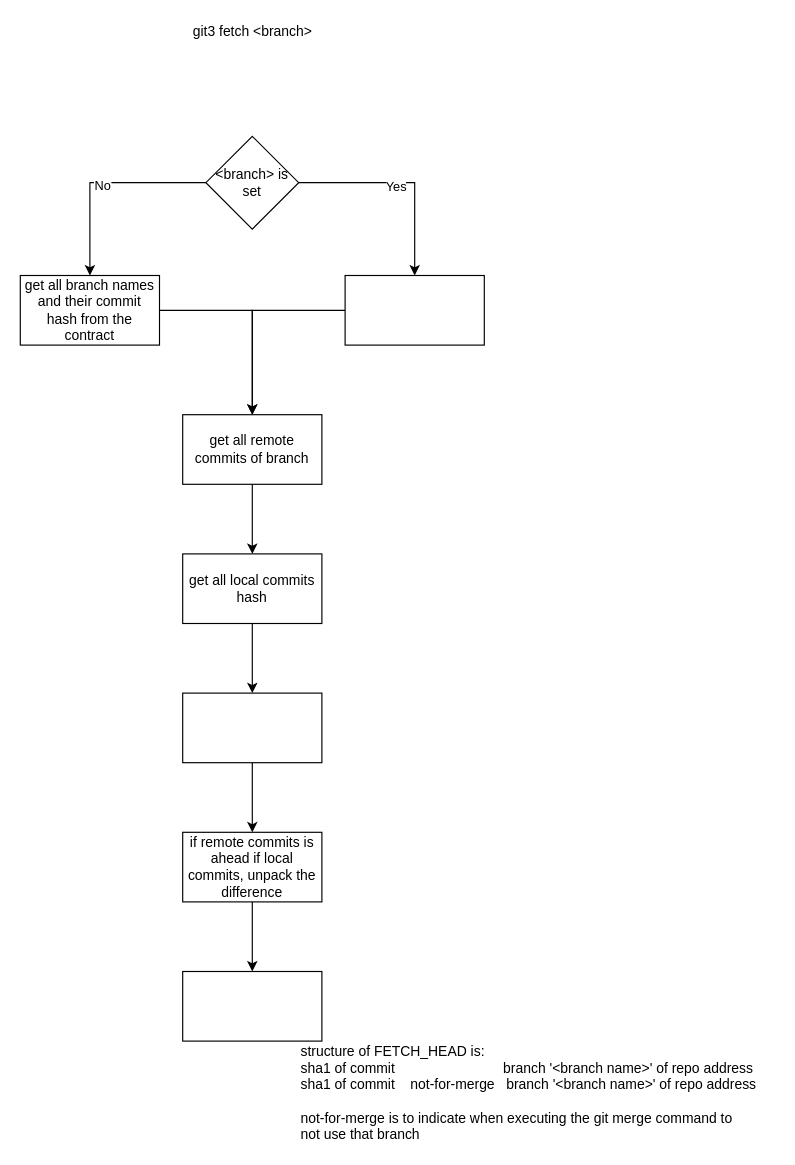
Image size: 795x1165. Some labels were removed from this diagram. Each missing label, with the centre of its shape:
"get commit hash of <branch>" goes at (x=414, y=309).
"write remote commit hash into refs/remotes/origin/<branch name>" goes at (x=252, y=727).
"write to FETCH_HEAD" goes at (x=252, y=1005).
